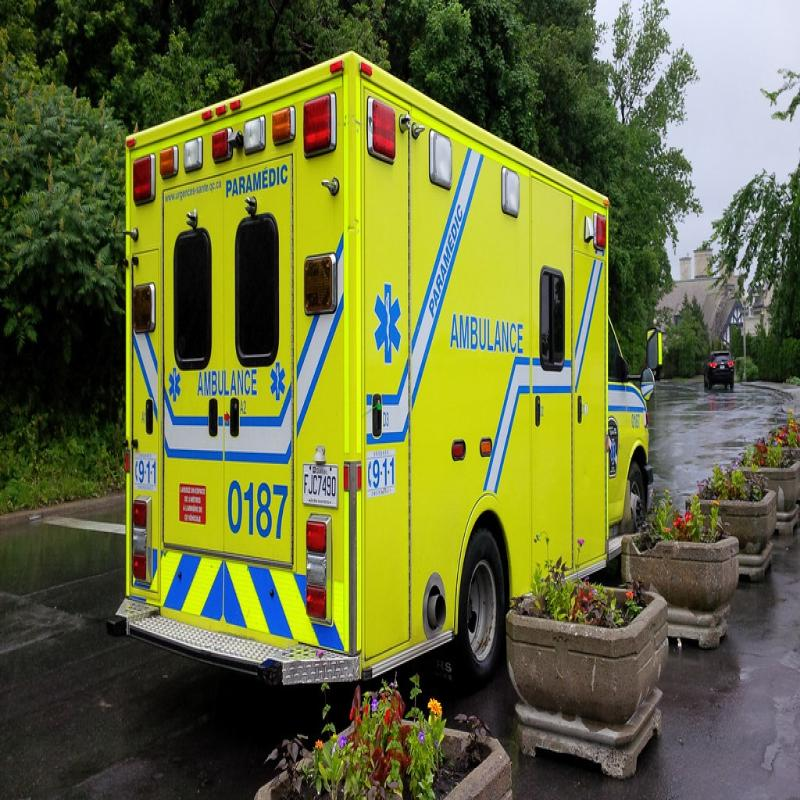ambulance: (148, 118, 651, 643)
